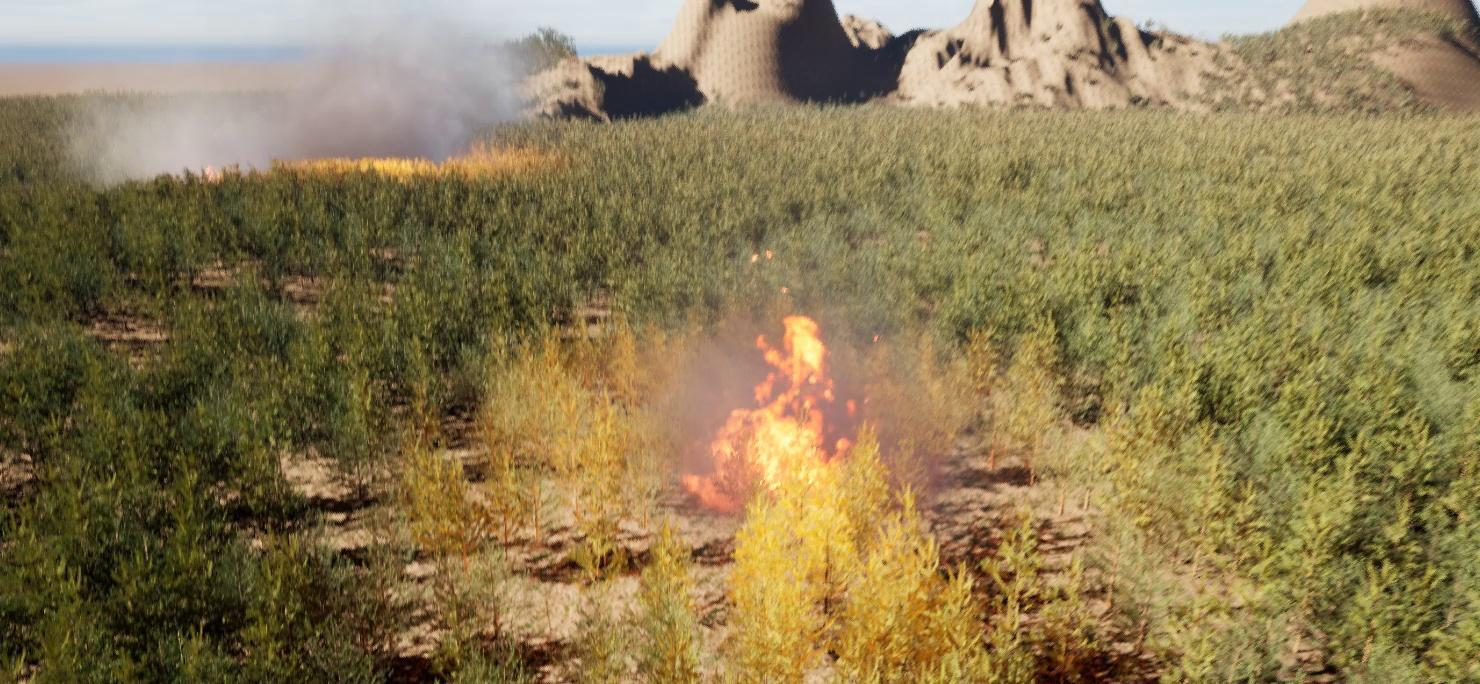fire: (680, 300, 860, 515)
smoke: (72, 0, 544, 183), (639, 273, 929, 489)
